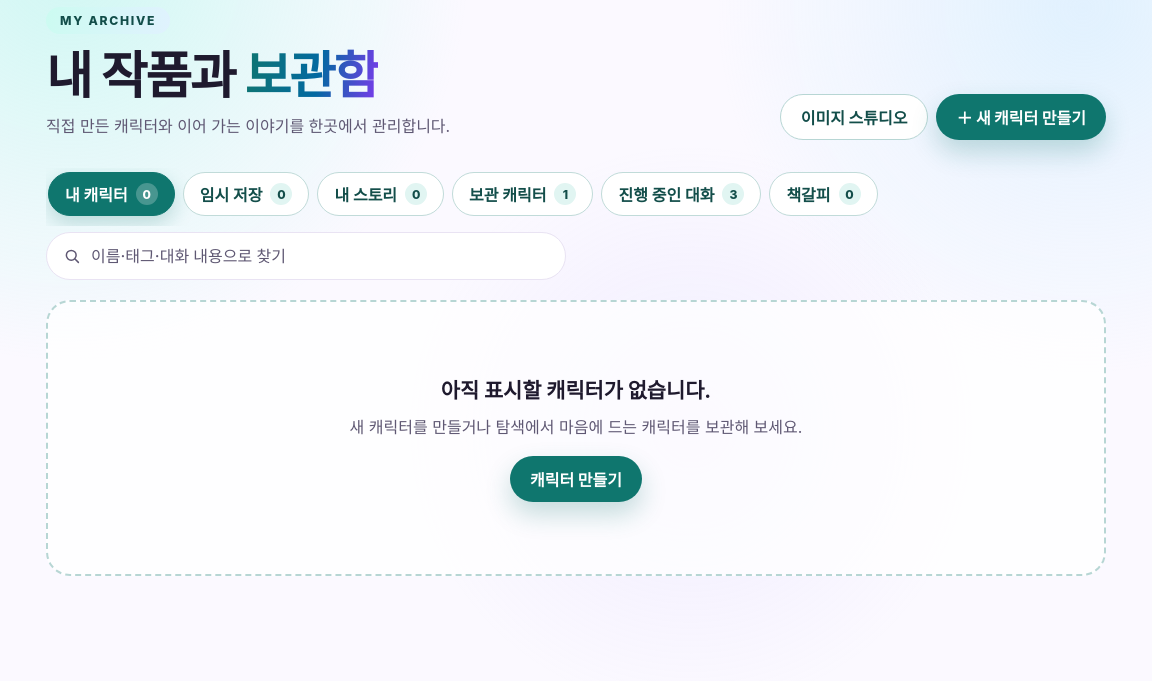
Test case: 19세 잠금 화면 › 보관함의 19세 캐릭터는 흐리게 잠그고 소개를 가린다
This screenshot has width=1152, height=681.
Click the tab "보관 캐릭터 1". click: point(523, 194)
box: top-left (452, 172), bottom-right (594, 216)
(page scrolled)
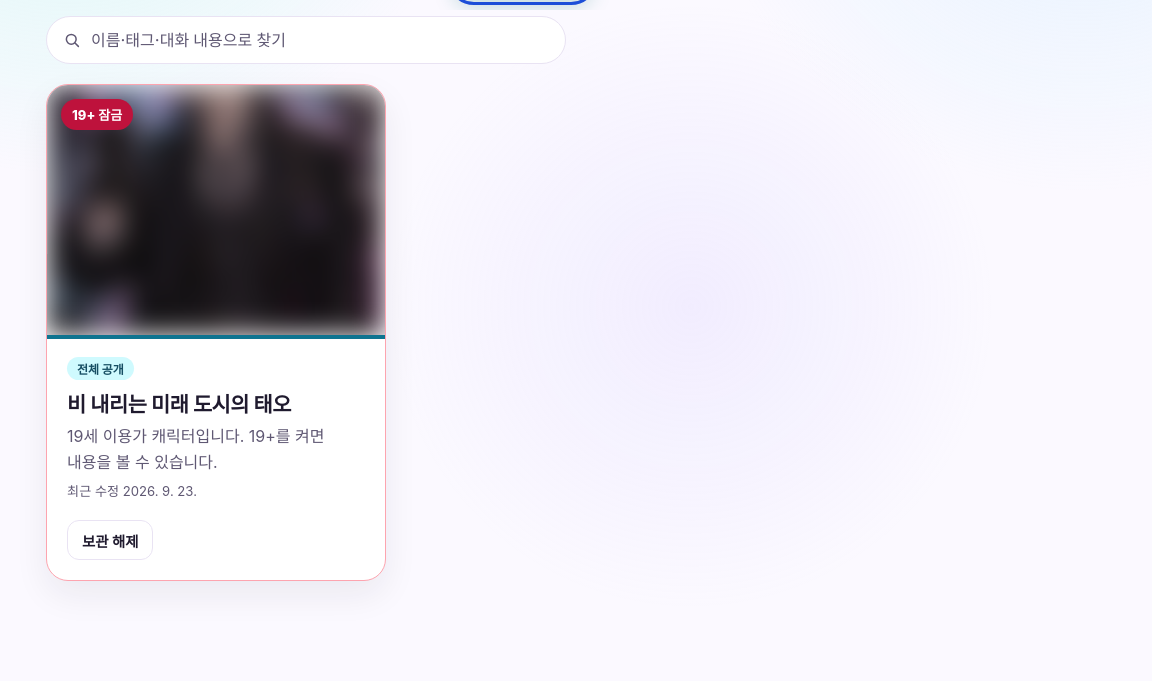
Result: the text "19+ 잠금" is shown at top-left (61, 99), bottom-right (133, 130)
Result: the text "19세 이용가 캐릭터입니다. 19+를 켜면 내용을 볼 수 있습니다." is shown at top-left (67, 424), bottom-right (365, 475)
